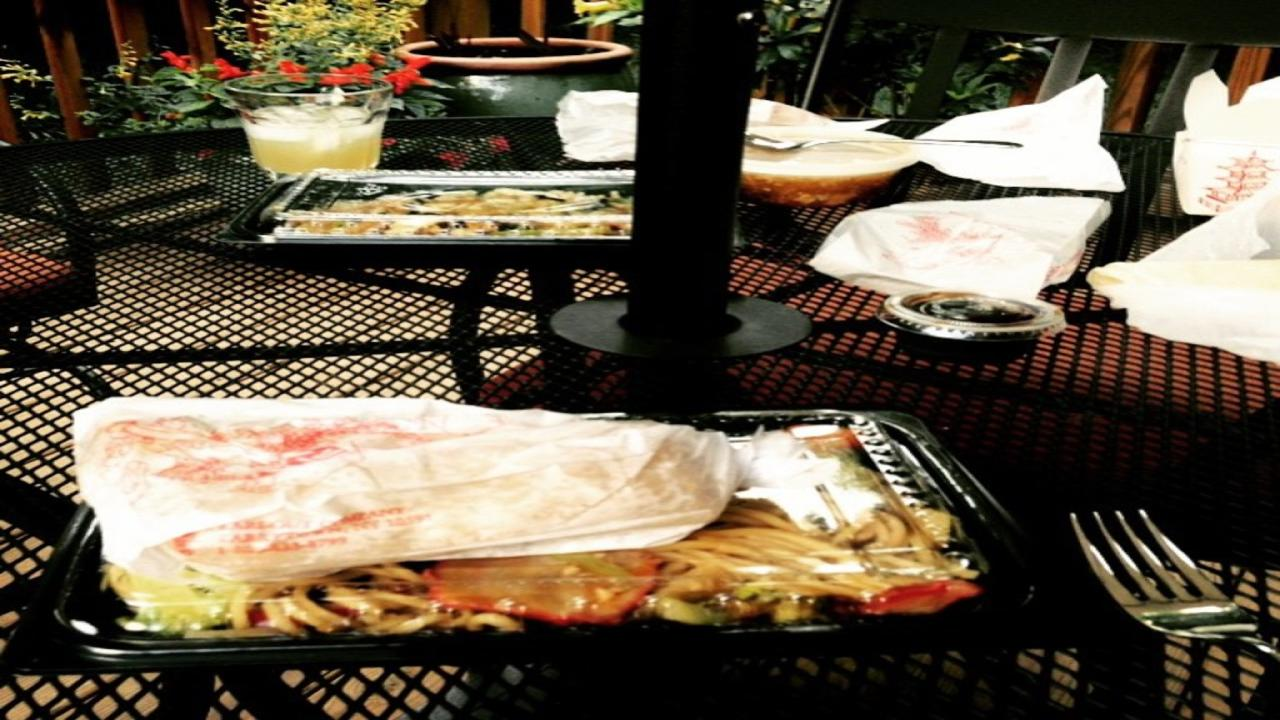fork: (1053, 500, 1280, 667)
